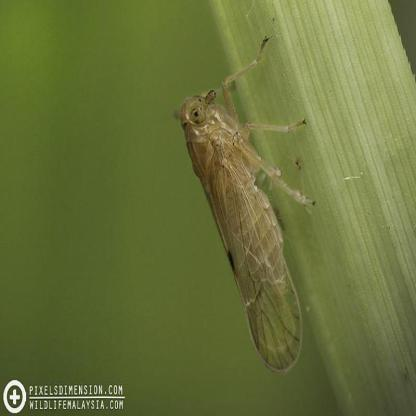brown-planthopper: (174, 30, 313, 376)
